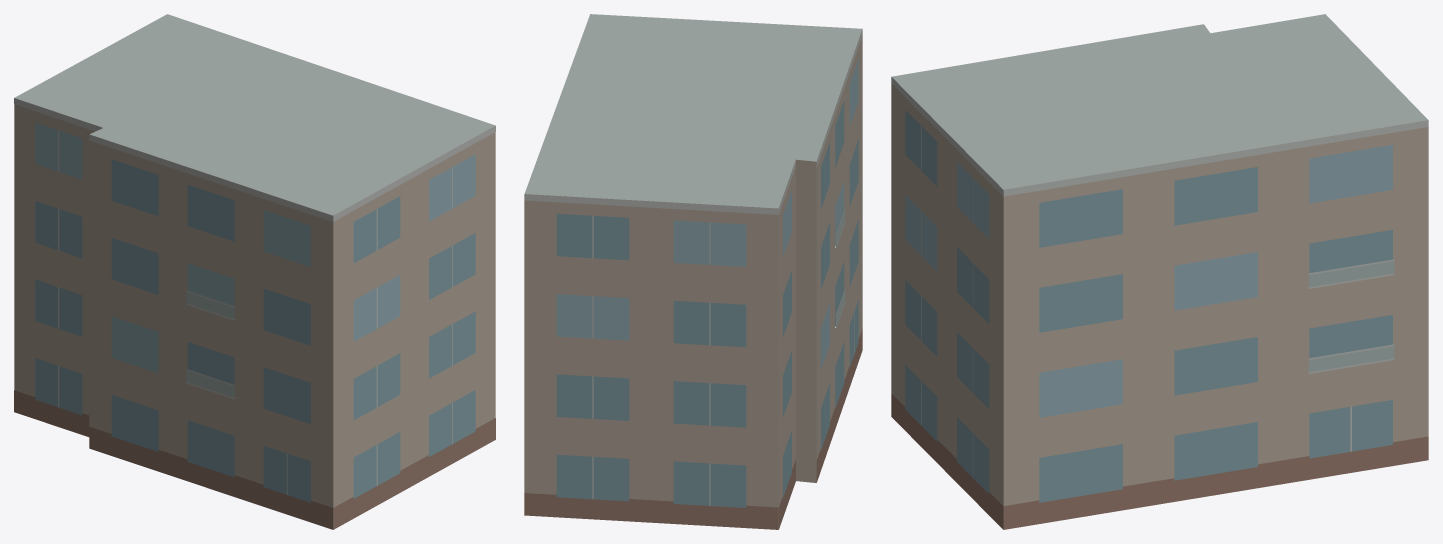
File: survey-upis-32698434.glb
3 renders of one model, left to right at view 1: azimuth 30°, elevation 25°; view 2: azimuth 150°, elevation 25°; view 3: azimuth 270°, elevation 25°, orthographic. The views are drawn at different scales.
Parts seen in each view (by area): view 1: survey-upis-32698434.tmp; view 2: survey-upis-32698434.tmp; view 3: survey-upis-32698434.tmp.
Boxes of the visible parts, x1=… form: survey-upis-32698434.tmp: x1=14, y1=14, x2=495, y2=529; survey-upis-32698434.tmp: x1=524, y1=14, x2=862, y2=529; survey-upis-32698434.tmp: x1=891, y1=14, x2=1428, y2=529.
Size of the model in its own units: 13.54 by 12.2 by 17.48.
